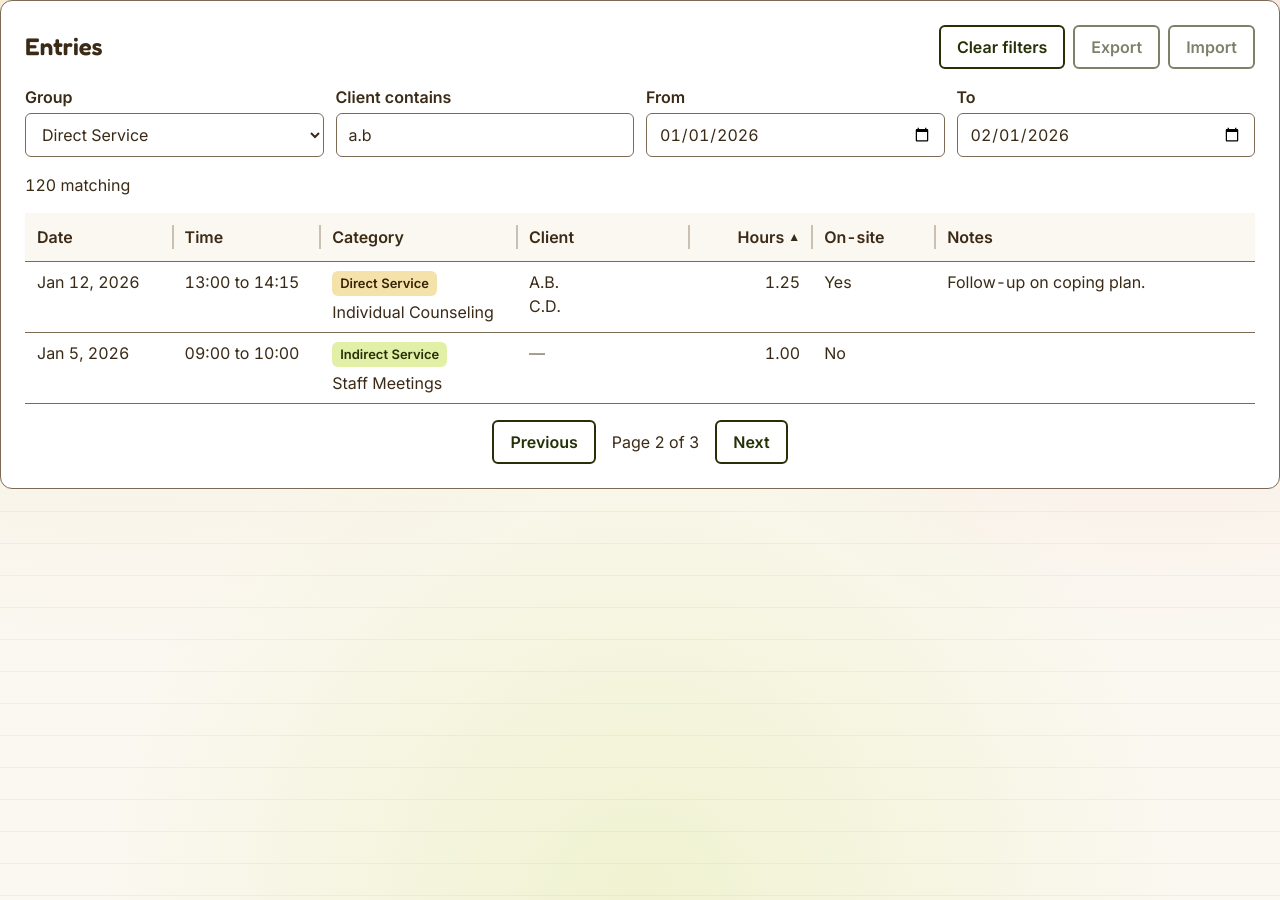
Test: Clear filters › resets every filter, empties the controls, returns to page 1 and keeps the sort
This screenshot has width=1280, height=900.
Expected: the table is shown, [25, 213, 1255, 404]
Click the button "Clear filters": click(1002, 47) [939, 25, 1065, 69]
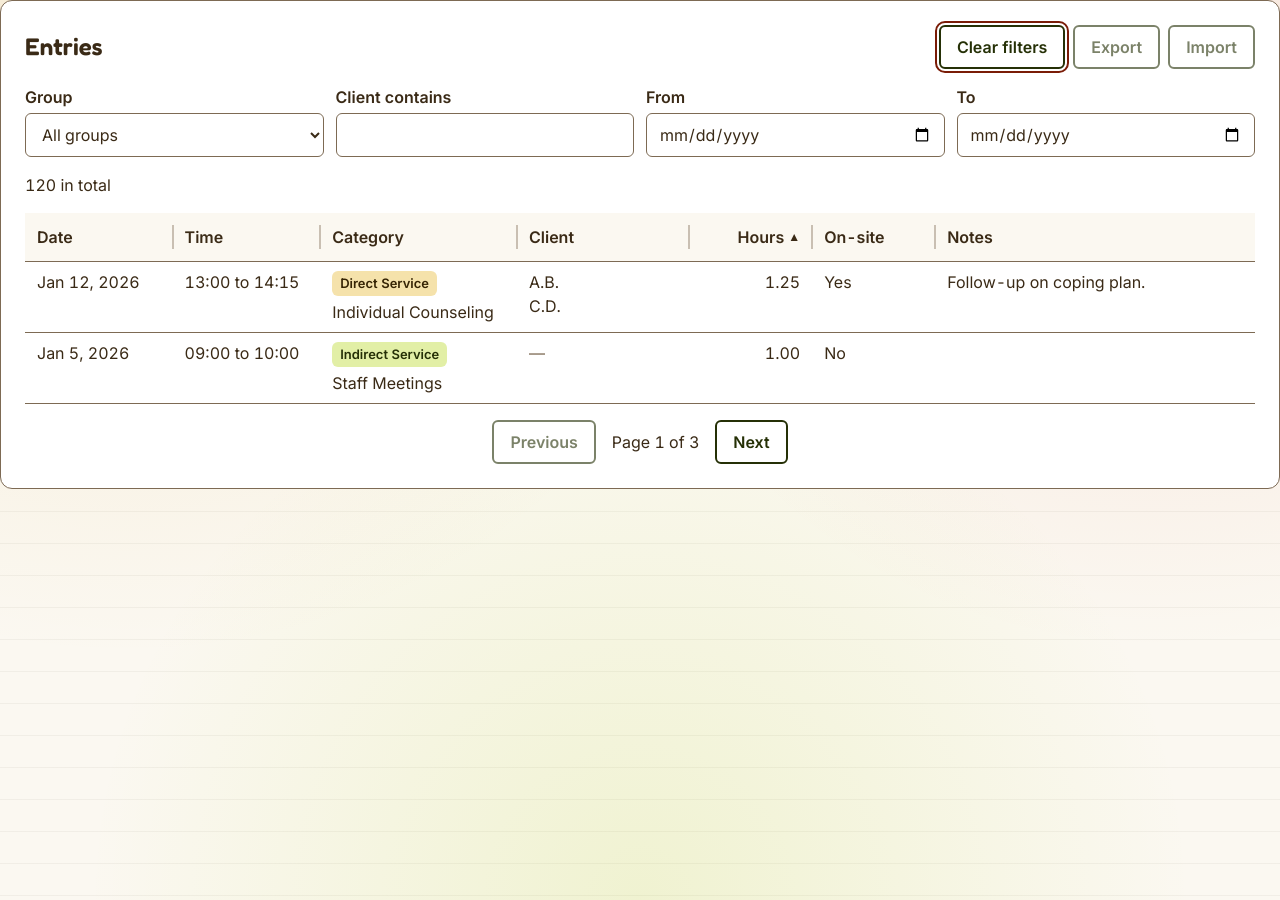
Expected: the dropdown labelled "Group" shows "All groups", [25, 113, 324, 157]
Expected: the search field labelled "Client contains" is empty, [336, 113, 634, 157]
Expected: the date field labelled "From" is empty, [646, 113, 944, 157]
